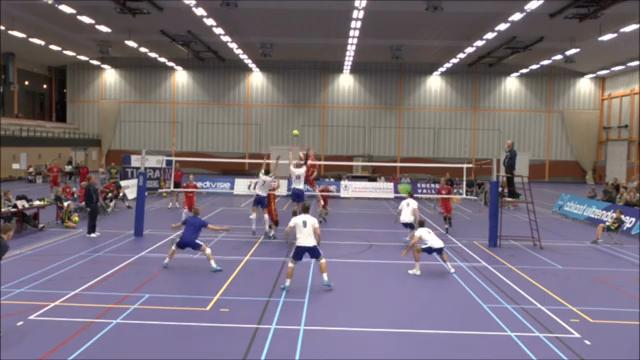attacco: (293, 145, 326, 212)
muro: (248, 150, 276, 240), (285, 147, 307, 216)
